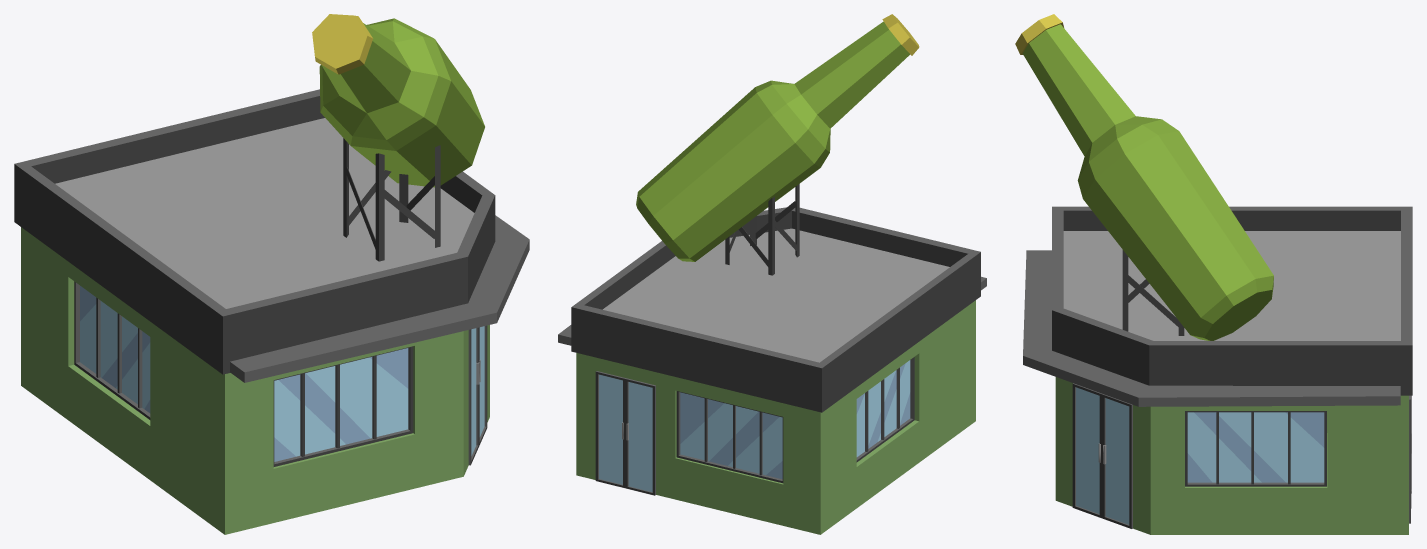
The model's file is cafe_002.fbx.
3 views of the same model, side by side, from view 1: azimuth 30°, elevation 25°; view 2: azimuth 150°, elevation 25°; view 3: azimuth 270°, elevation 25° (orthographic). The views are drawn at different scales.
Parts seen in each view (by area): view 1: cafe_002; view 2: cafe_002; view 3: cafe_002.
Boxes of the visible parts, x1,y1,x2,y2 form: cafe_002: (14, 14, 529, 534); cafe_002: (558, 14, 986, 534); cafe_002: (1015, 14, 1412, 534).
Bounding box in the file's own units: 564 × 752 × 629.
